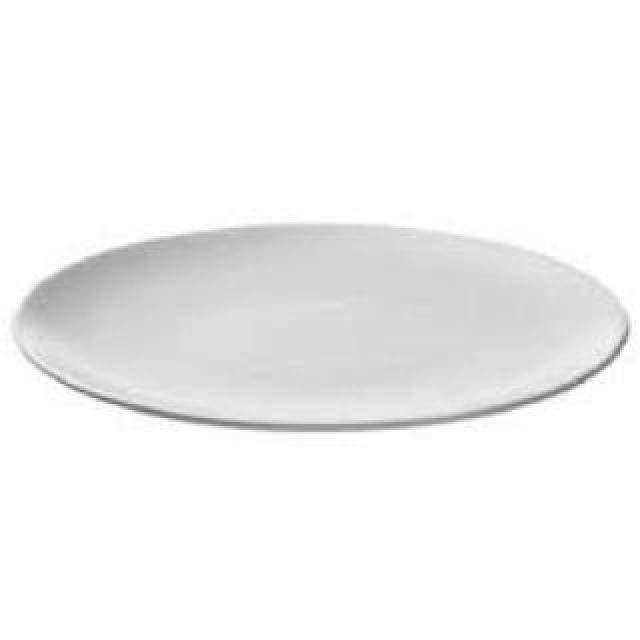plate: (12, 198, 636, 450)
